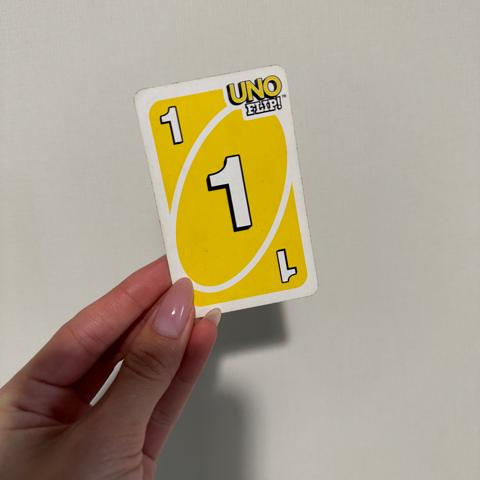lyellow-1: (151, 96, 206, 155)
